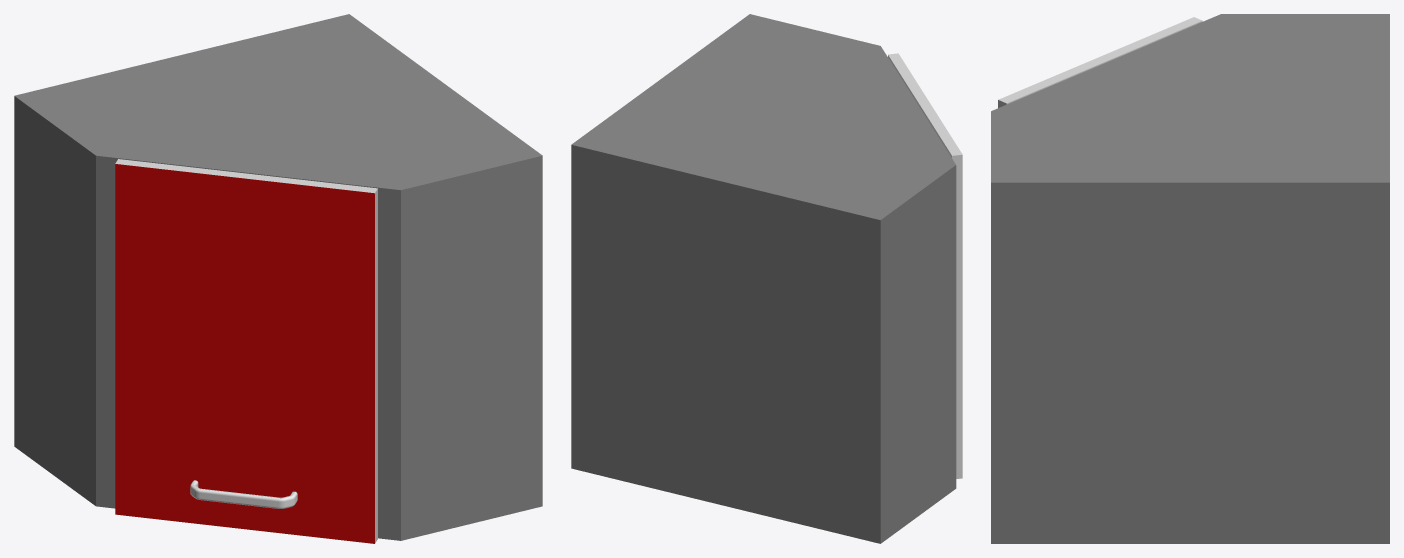
Rendered from sh-lp-pensile-angolo.glb.
3 renders of one model, left to right at view 1: azimuth 30°, elevation 25°; view 2: azimuth 150°, elevation 25°; view 3: azimuth 270°, elevation 25°, orthographic. The views are drawn at different scales.
Parts seen in each view (by area): view 1: Line17_1, Box152_3, Box15_2, Loft07_5; view 2: Line17_1, Box15_2; view 3: Line17_1, Box15_2.
Boxes of the visible parts, x1,y1,x2,y2 form: Line17_1: [14, 14, 542, 540]; Box152_3: [115, 164, 374, 543]; Box15_2: [115, 159, 377, 543]; Loft07_5: [190, 480, 297, 508]; Line17_1: [571, 14, 956, 543]; Box15_2: [888, 53, 962, 478]; Line17_1: [991, 14, 1389, 543]; Box15_2: [998, 17, 1202, 107].
Bounding box in the file's own units: 1 × 1 × 1.
